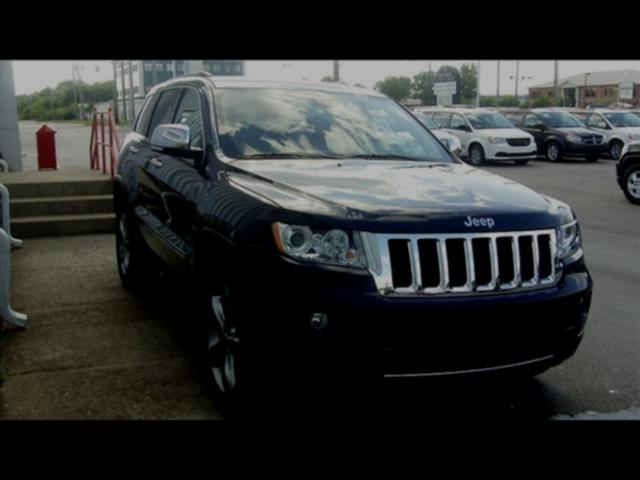jeep: (449, 205, 515, 241)
